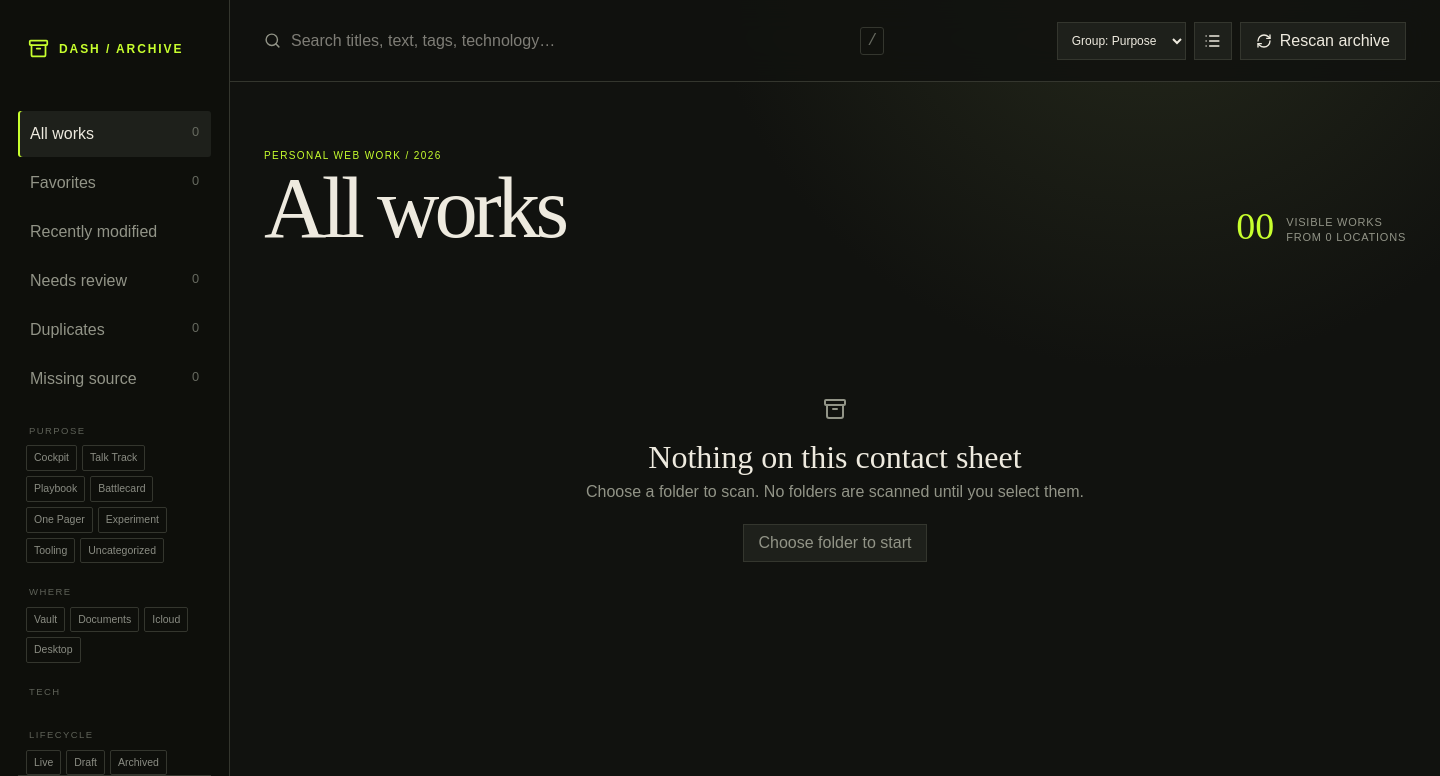
Test: dashboard archive interface › waits for a folder choice before scanning a fresh install
Click the button "Choose folder to start". click: (835, 543)
box: x1=742 y1=524 x2=928 y2=562
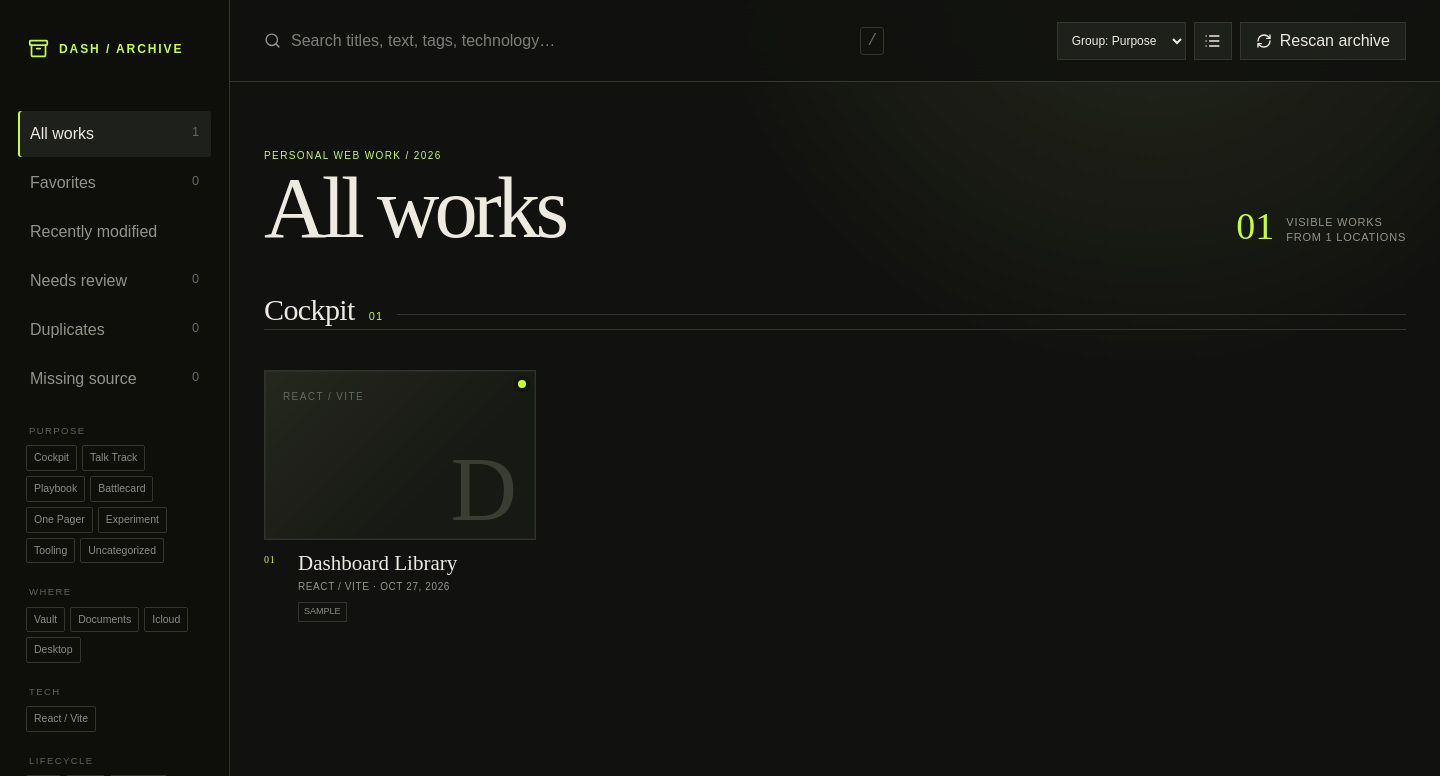
Check: the button "Dashboard Library" is shown, box x1=298 y1=552 x2=457 y2=574
